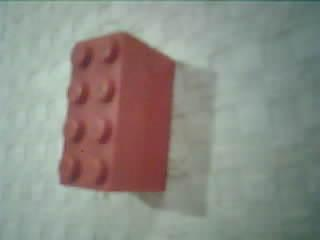lego: (55, 30, 178, 194)
